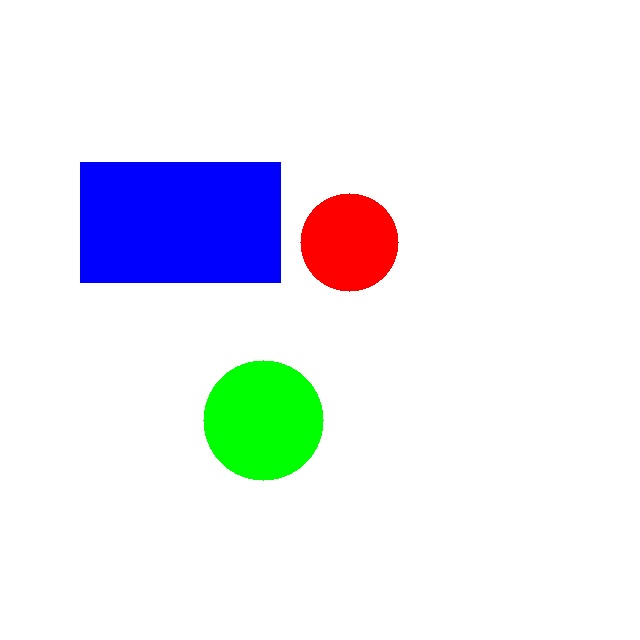cartao: (80, 162, 280, 282)
rosca_externa: (203, 360, 323, 480)
rosca_interna: (300, 193, 398, 291)
